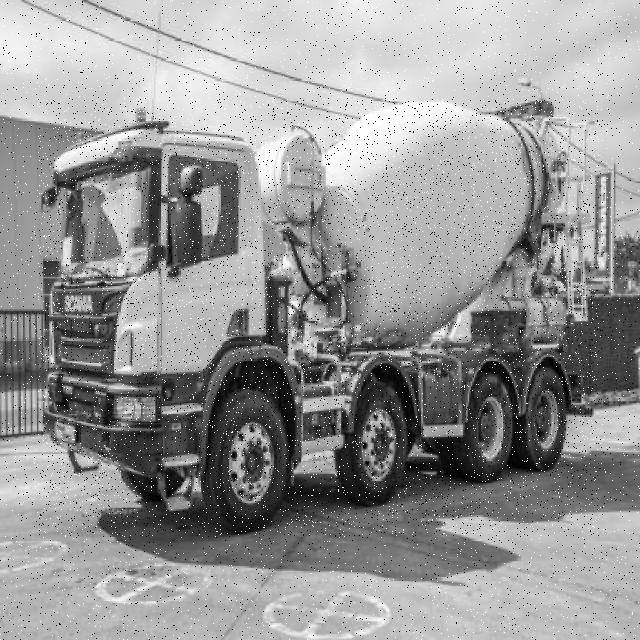Concrete Mixer: (39, 99, 599, 536)
